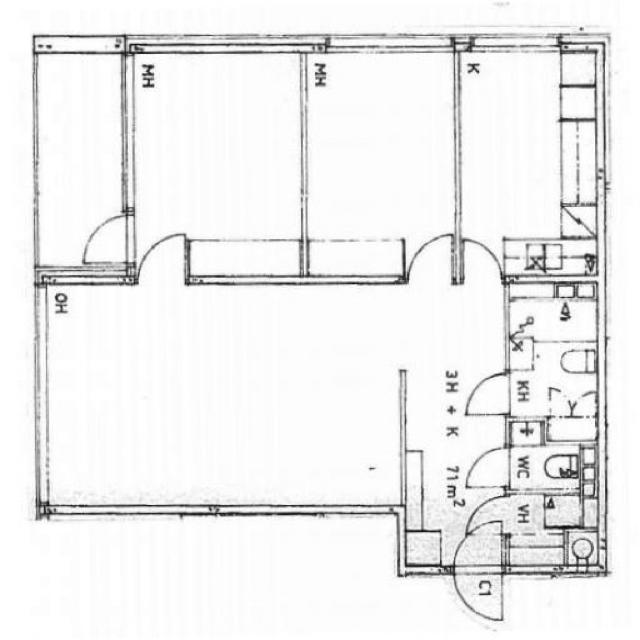door: (453, 566, 502, 624), (453, 516, 502, 574), (75, 216, 134, 263), (137, 228, 185, 285), (408, 231, 452, 285), (462, 237, 502, 285), (465, 374, 509, 415), (467, 449, 509, 487), (468, 498, 509, 535)
